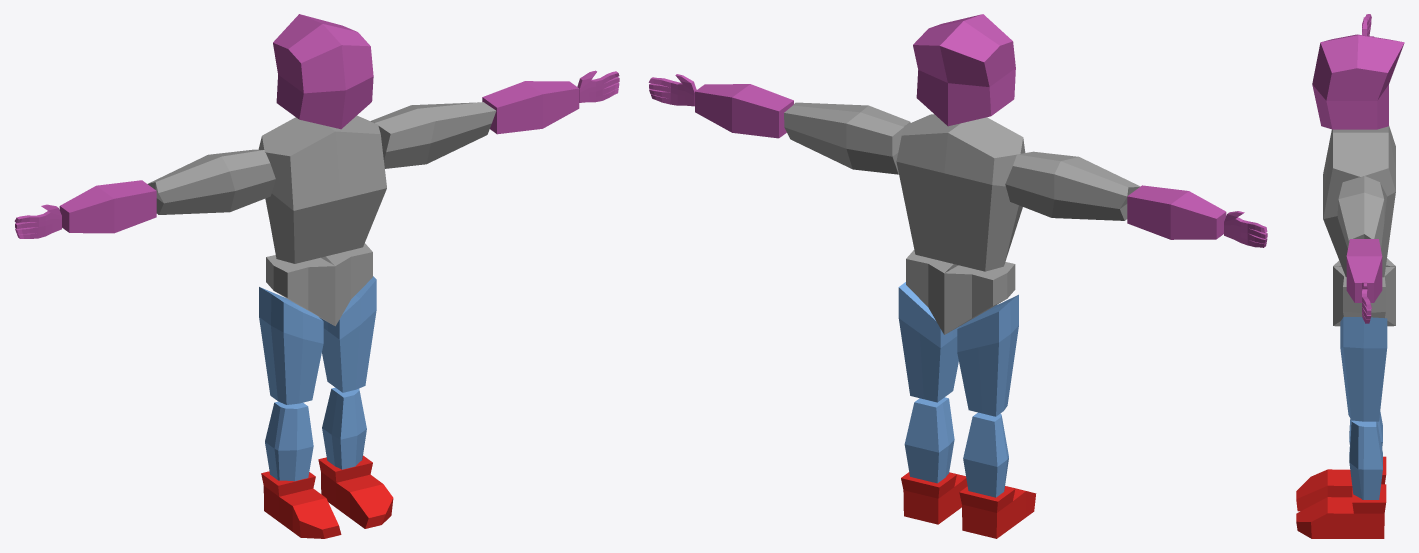
File: CharacterModelA.fbx
3 renders of one model, left to right at view 1: azimuth 30°, elevation 25°; view 2: azimuth 150°, elevation 25°; view 3: azimuth 270°, elevation 25°, orthographic. The views are drawn at different scales.
Visible parts, largest first — view 1: Cube.001, Cube.002, Cube.005, Cube, Cube.003, feet, Cube.006, waist, Cube.007; view 2: Cube.001, Cube.002, Cube.005, Cube, Cube.003, Cube.006, waist, feet, Cube.007; view 3: Cube, Cube.001, feet, Cube.005, Cube.002, Cube.006, waist, Cube.003, Cube.007.
Part boxes in pixels (x1,y1,x2,y2): Cube.001: [258, 115, 386, 263]; Cube.002: [148, 102, 496, 214]; Cube.005: [259, 276, 376, 404]; Cube: [273, 14, 373, 129]; Cube.003: [59, 81, 579, 233]; feet: [261, 455, 393, 538]; Cube.006: [265, 387, 366, 481]; waist: [266, 243, 372, 326]; Cube.007: [14, 70, 619, 238]; Cube.001: [896, 114, 1025, 271]; Cube.002: [784, 102, 1140, 220]; Cube.005: [898, 282, 1018, 416]; Cube: [913, 14, 1015, 126]; Cube.003: [695, 84, 1226, 239]; Cube.006: [904, 397, 1008, 497]; waist: [906, 250, 1015, 334]; feet: [901, 472, 1036, 538]; Cube.007: [648, 74, 1267, 247]; Cube: [1312, 34, 1404, 129]; Cube.001: [1323, 126, 1395, 277]; feet: [1296, 456, 1386, 538]; Cube.005: [1340, 317, 1387, 421]; Cube.002: [1337, 176, 1386, 248]; Cube.006: [1349, 412, 1382, 499]; waist: [1333, 258, 1395, 326]; Cube.003: [1346, 36, 1382, 302]; Cube.007: [1362, 14, 1371, 323].
Size of the model in its own units: 1063 by 818 by 167.
